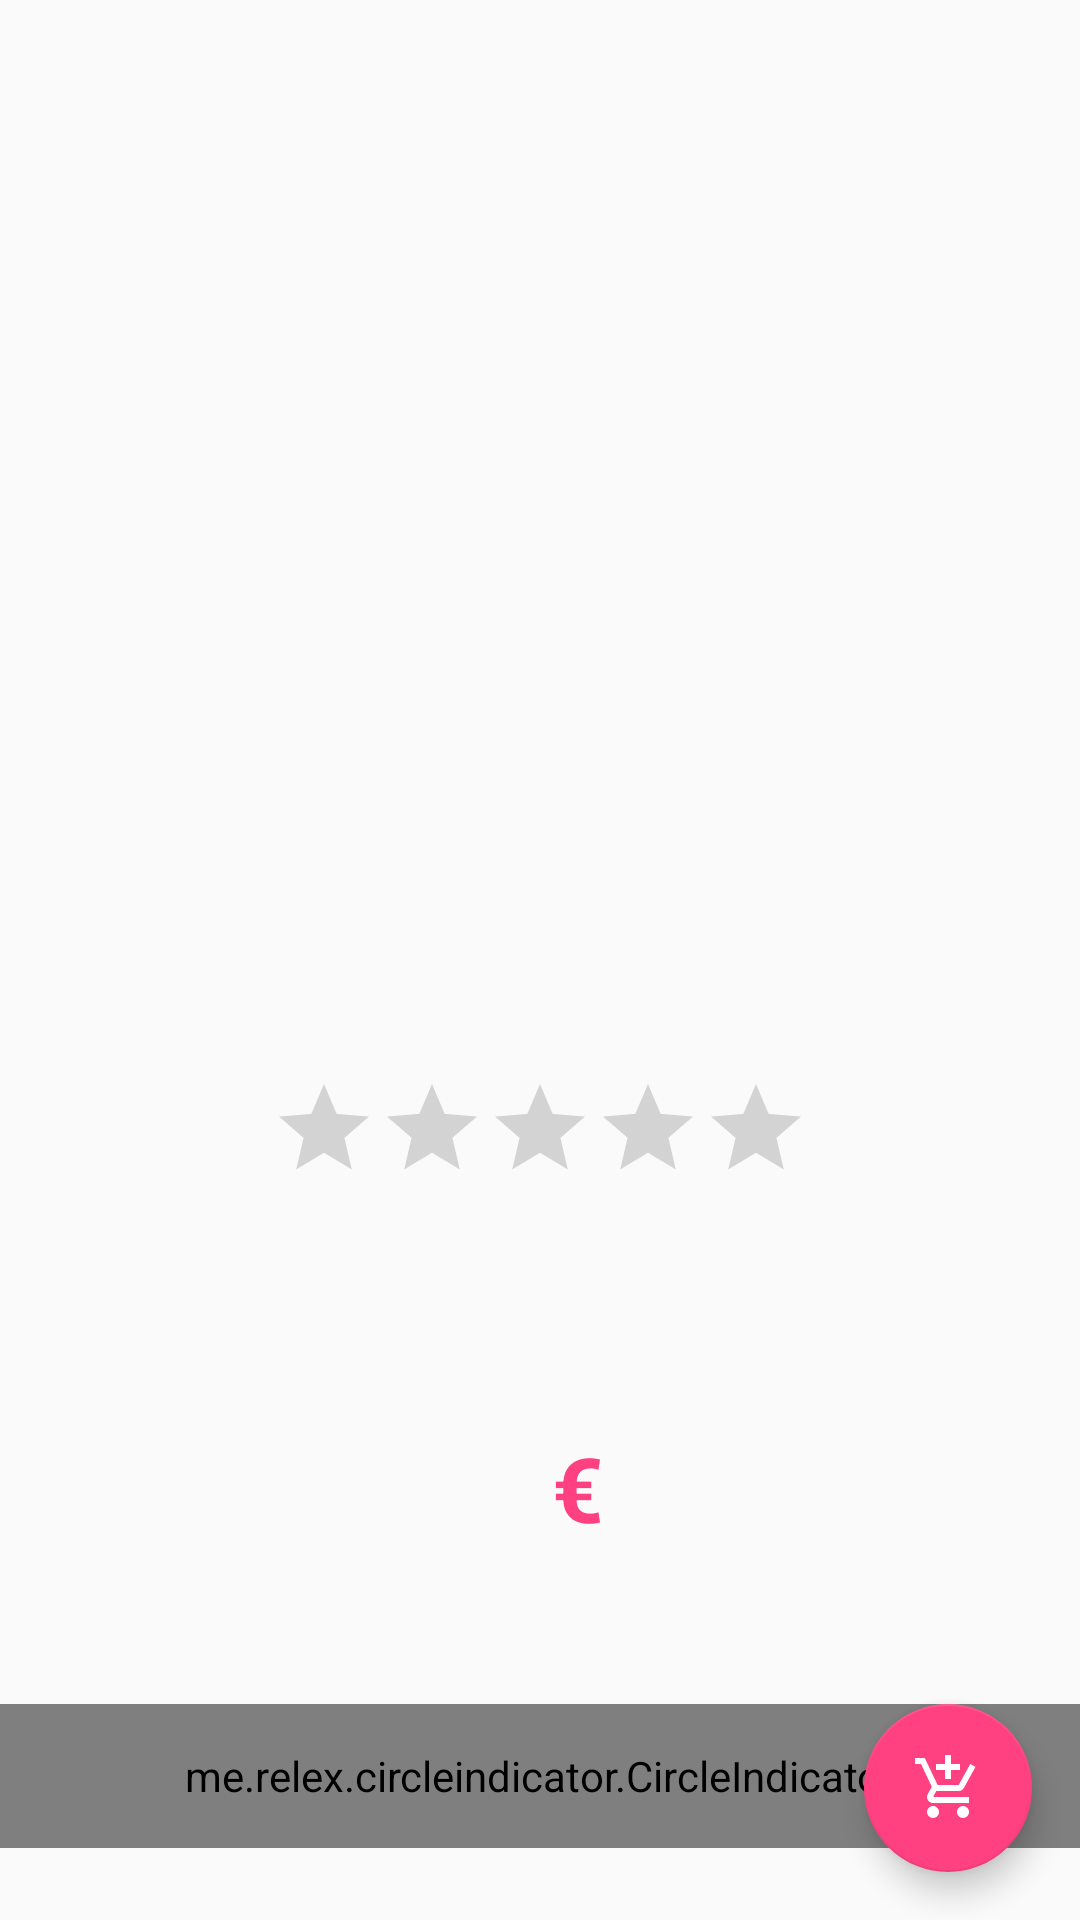

Icons on this 1080px×1920px Android screen, each with the point to tap as (x=x, y=y):
add shopping cart: (x=948, y=1788)
